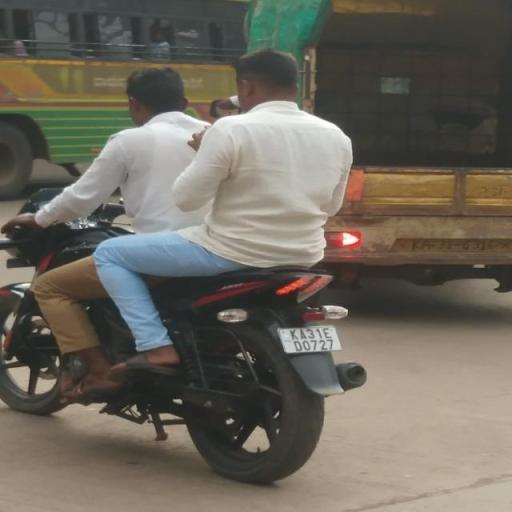bike: (4, 47, 377, 484)
numberplate: (277, 322, 345, 356)
withouthelmet: (237, 52, 299, 108), (129, 69, 192, 119)
